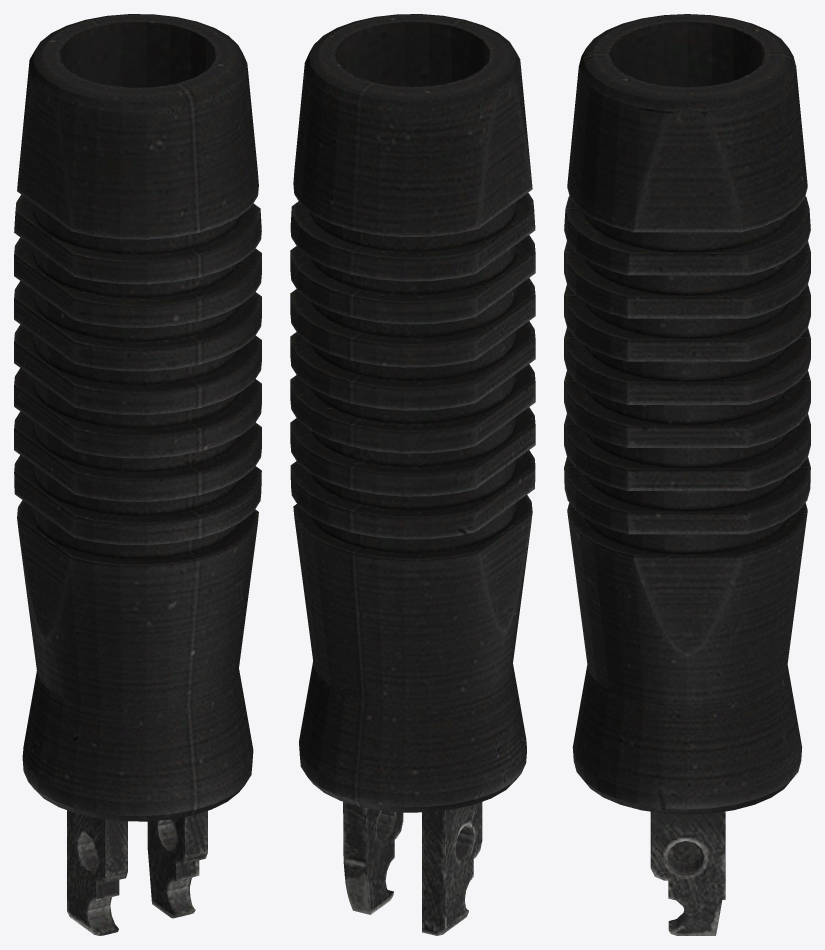
3 views of the same model, side by side, from view 1: azimuth 30°, elevation 25°; view 2: azimuth 150°, elevation 25°; view 3: azimuth 270°, elevation 25° (orthographic).
Parts seen in each view (by area): view 1: TW_65329ebcc0d50d0c9204ace1_PZ_Import; view 2: TW_65329ebcc0d50d0c9204ace1_PZ_Import; view 3: TW_65329ebcc0d50d0c9204ace1_PZ_Import.
Boxes of the visible parts, left/top/right/bottom form: TW_65329ebcc0d50d0c9204ace1_PZ_Import: left=14, top=14, right=261, bottom=935; TW_65329ebcc0d50d0c9204ace1_PZ_Import: left=290, top=14, right=535, bottom=935; TW_65329ebcc0d50d0c9204ace1_PZ_Import: left=564, top=14, right=810, bottom=935.
Size of the model in its own units: 0.0172 by 0.0185 by 0.0709.
1 material, 1 textured.
